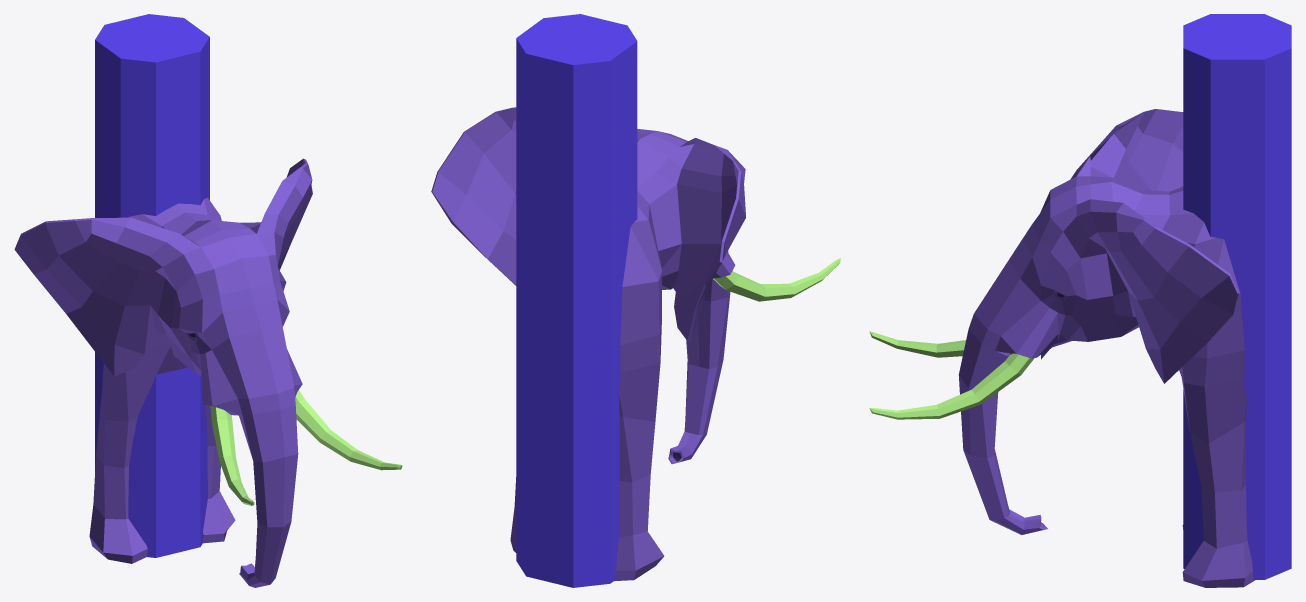
The model's file is 029_Elephant.fbx.
3 views of the same model, side by side, from view 1: azimuth 30°, elevation 25°; view 2: azimuth 150°, elevation 25°; view 3: azimuth 270°, elevation 25° (orthographic). The views are drawn at different scales.
Parts seen in each view (by area): view 1: ELEPHANT1; view 2: ELEPHANT1; view 3: ELEPHANT1.
Part boxes in pixels (x1,y1,x2,y2): ELEPHANT1: (14, 14, 402, 587); ELEPHANT1: (431, 14, 840, 587); ELEPHANT1: (869, 14, 1291, 587).
Size of the model in its own units: 77.37 by 133 by 97.64.
